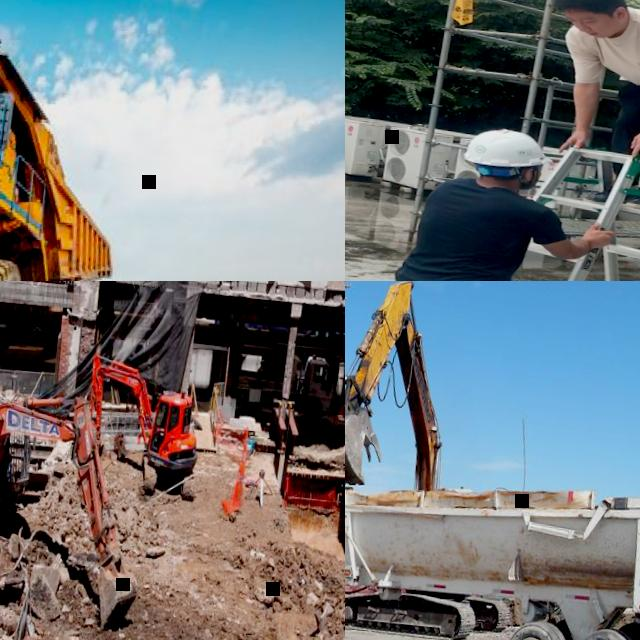Hardhat: (463, 126, 557, 168)
NO-Hardhat: (551, 0, 626, 20)
NO-Mask: (584, 22, 621, 40), (524, 173, 542, 190)
NO-Safety Vest: (394, 178, 535, 281), (581, 11, 640, 89)
Person: (361, 120, 626, 281), (533, 0, 640, 217)
Safety Cone: (238, 427, 250, 477)
vehicle: (345, 281, 545, 640), (345, 433, 640, 640), (0, 5, 136, 281), (0, 394, 155, 634), (78, 351, 208, 506), (224, 347, 338, 422)
